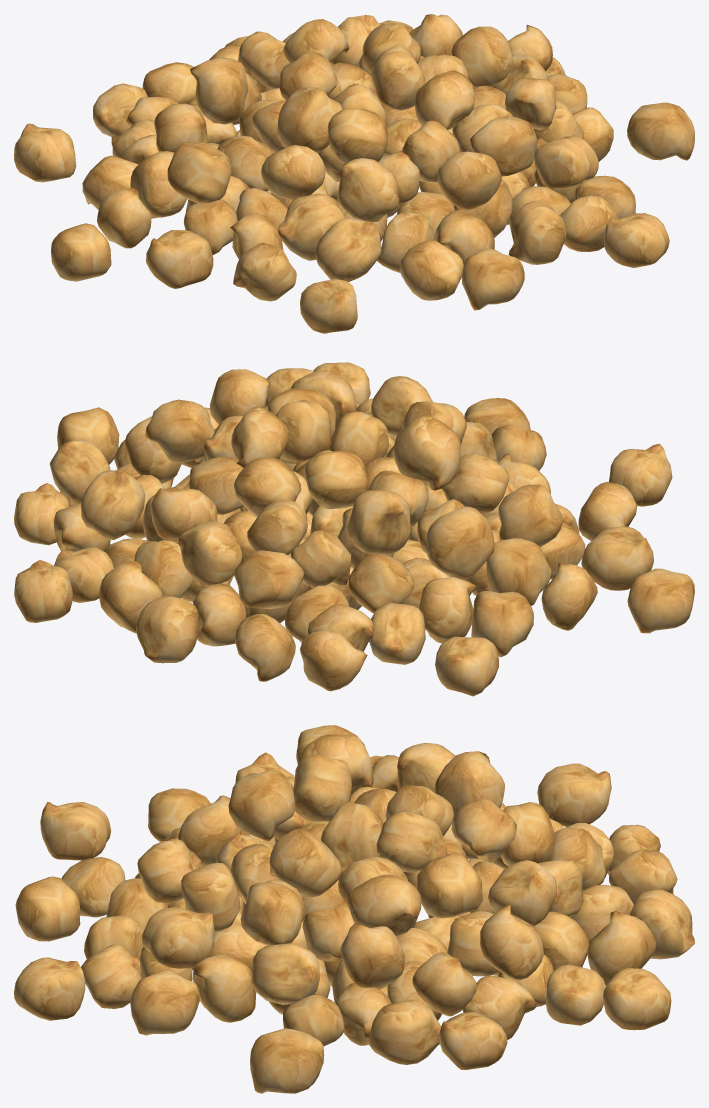
Rendered from Chickpea_Done.fbx.
The picture shows the model from 3 angles, top to bottom: view 1: azimuth 30°, elevation 25°; view 2: azimuth 150°, elevation 25°; view 3: azimuth 270°, elevation 25°; orthographic projection. The views are drawn at different scales.
Parts seen in each view (by area): view 1: Chickpea004; view 2: Chickpea004; view 3: Chickpea004.
Part boxes in pixels (x1,y1,x2,y2): Chickpea004: [14, 14, 694, 333]; Chickpea004: [14, 362, 694, 696]; Chickpea004: [14, 725, 694, 1093].
Size of the model in its own units: 42.1 by 9.6 by 36.34.
